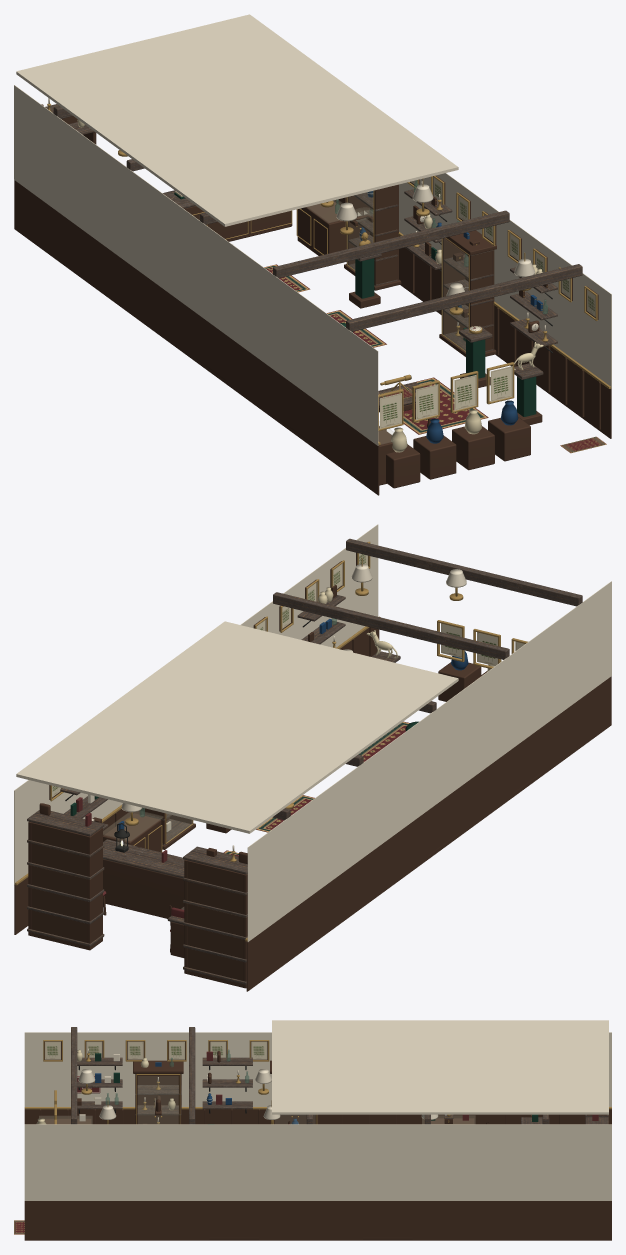
File: interior.glb
The picture shows the model from 3 angles, top to bottom: view 1: azimuth 30°, elevation 25°; view 2: azimuth 150°, elevation 25°; view 3: azimuth 270°, elevation 25°; orthographic projection. The views are drawn at different scales.
Visible parts, largest first — view 1: Rear ceiling, Interior parchment plaster, Walnut wainscot, Interior parchment plaster.001, Walnut wainscot.001, Exposed oak beam, Exposed oak beam.001, Low cabinet body.002, Cabinet stile.007, Cabinet glass.002, Cabinet stile.005, Window display riser.002 (+15 smaller); view 2: Rear ceiling, Interior parchment plaster, Walnut wainscot, Interior parchment plaster.001, Bookcase back.001, Bookcase back, counter body, Exposed oak beam.001, Exposed oak beam, Bookcase side.002, counter polished top, Walnut wainscot.001 (+5 smaller); view 3: Interior parchment plaster.001, Rear ceiling, Walnut wainscot.001, Interior parchment plaster, Walnut wainscot, Cabinet glass, Cabinet back, Exposed oak beam, Exposed oak beam.001, Cabinet moulding.001, Modular wall shelf.004, Cabinet shelf.003 (+7 smaller).
Part boxes in pixels (x1,y1,x2,y2): Rear ceiling: (16, 14, 458, 226); Interior parchment plaster: (14, 85, 378, 445); Walnut wainscot: (14, 180, 379, 495); Interior parchment plaster.001: (399, 173, 611, 388); Walnut wainscot.001: (333, 198, 611, 438); Exposed oak beam: (346, 264, 582, 331); Exposed oak beam.001: (273, 210, 509, 278); Low cabinet body.002: (297, 201, 346, 255); Cabinet stile.007: (374, 185, 397, 284); Cabinet glass.002: (442, 238, 467, 350); Cabinet stile.005: (469, 251, 492, 350); Window display riser.002: (452, 426, 494, 470); Rear ceiling: (16, 621, 458, 833); Interior parchment plaster: (247, 581, 611, 941); Walnut wainscot: (246, 676, 611, 991); Interior parchment plaster.001: (14, 524, 378, 885); Bookcase back.001: (30, 822, 88, 949); Bookcase back: (186, 860, 244, 987); counter body: (103, 859, 184, 918); Exposed oak beam.001: (273, 592, 509, 659); Exposed oak beam: (346, 538, 582, 606); Bookcase side.002: (87, 827, 102, 950); counter polished top: (103, 839, 184, 878); Walnut wainscot.001: (14, 628, 379, 934); Interior parchment plaster.001: (24, 1124, 611, 1200); Rear ceiling: (272, 1020, 608, 1114); Walnut wainscot.001: (24, 1201, 611, 1240); Interior parchment plaster: (24, 1032, 611, 1106); Walnut wainscot: (24, 1109, 611, 1124); Cabinet glass: (138, 1076, 178, 1123); Cabinet back: (137, 1075, 181, 1124); Exposed oak beam: (71, 1027, 77, 1124); Exposed oak beam.001: (189, 1027, 195, 1124); Cabinet moulding.001: (133, 1060, 183, 1073); Modular wall shelf.004: (202, 1079, 252, 1087); Cabinet shelf.003: (135, 1085, 181, 1094).
Size of the model in its own units: 5.18 by 3.37 by 14.21.
23 materials, 8 textured.
